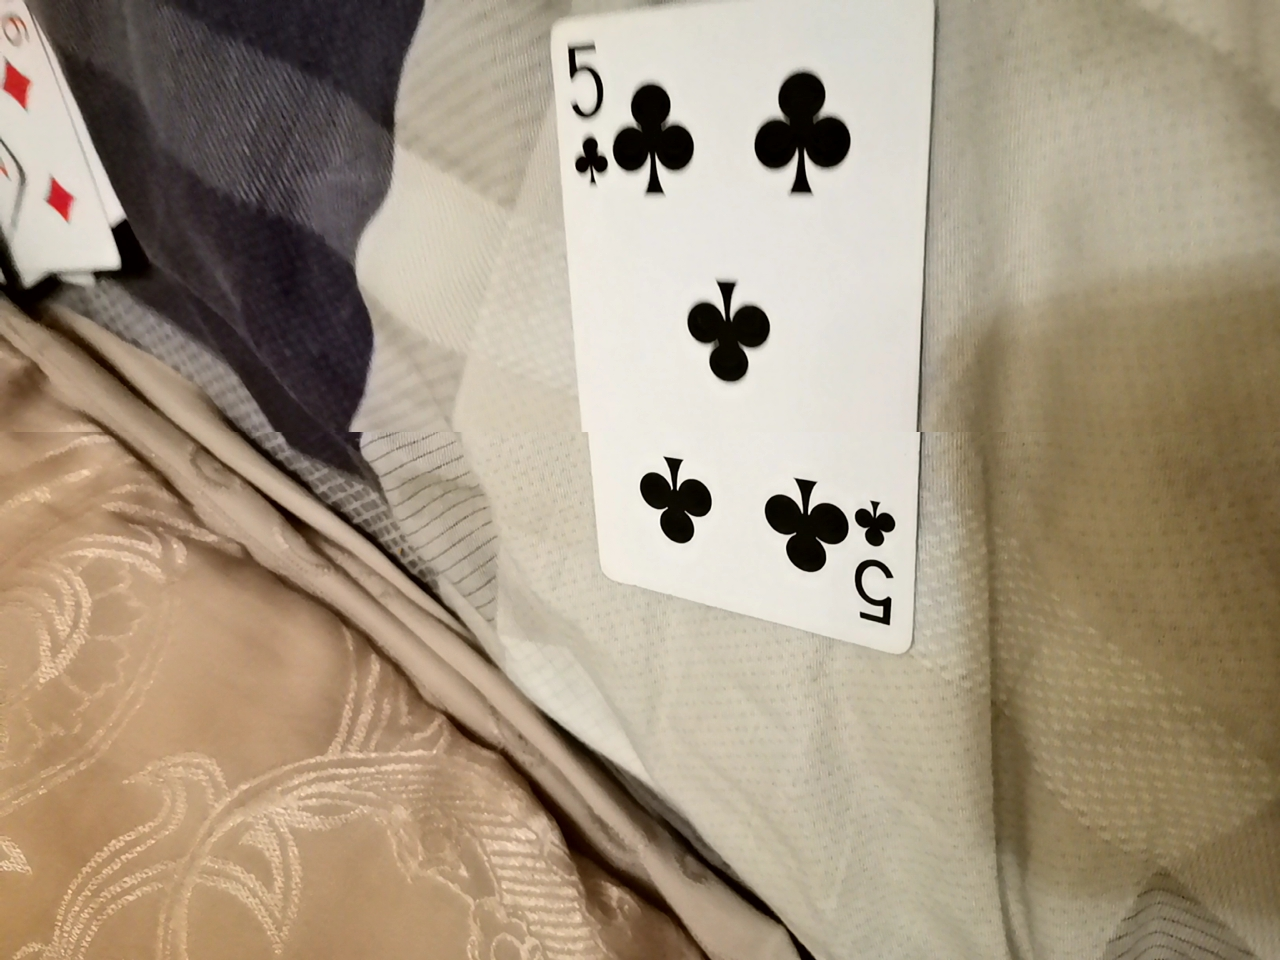mh 5: (531, 0, 945, 655)
